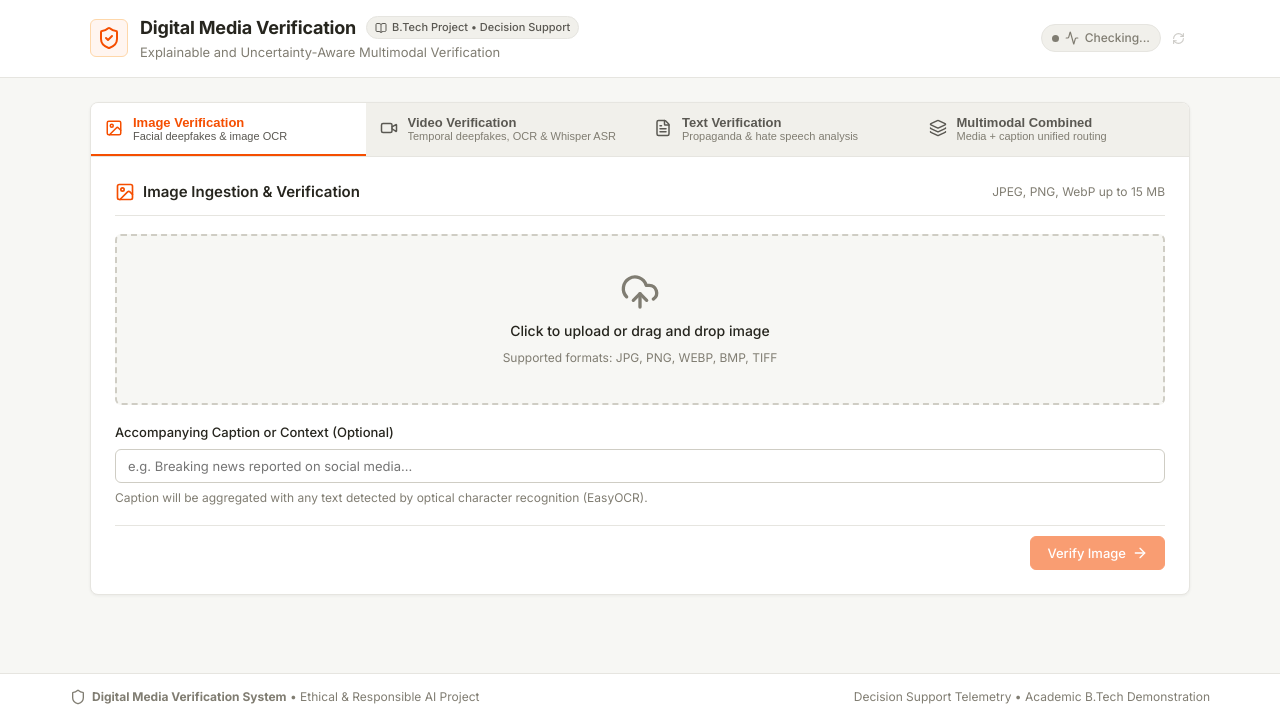
Test: Digital Media Verification Frontend Test Suite › 3. Text input UI updates character count and supports demo sample chips
Click the button "Text Verification Propaganda & hate speech analysis".
click(777, 129)  # box [640,102,914,156]
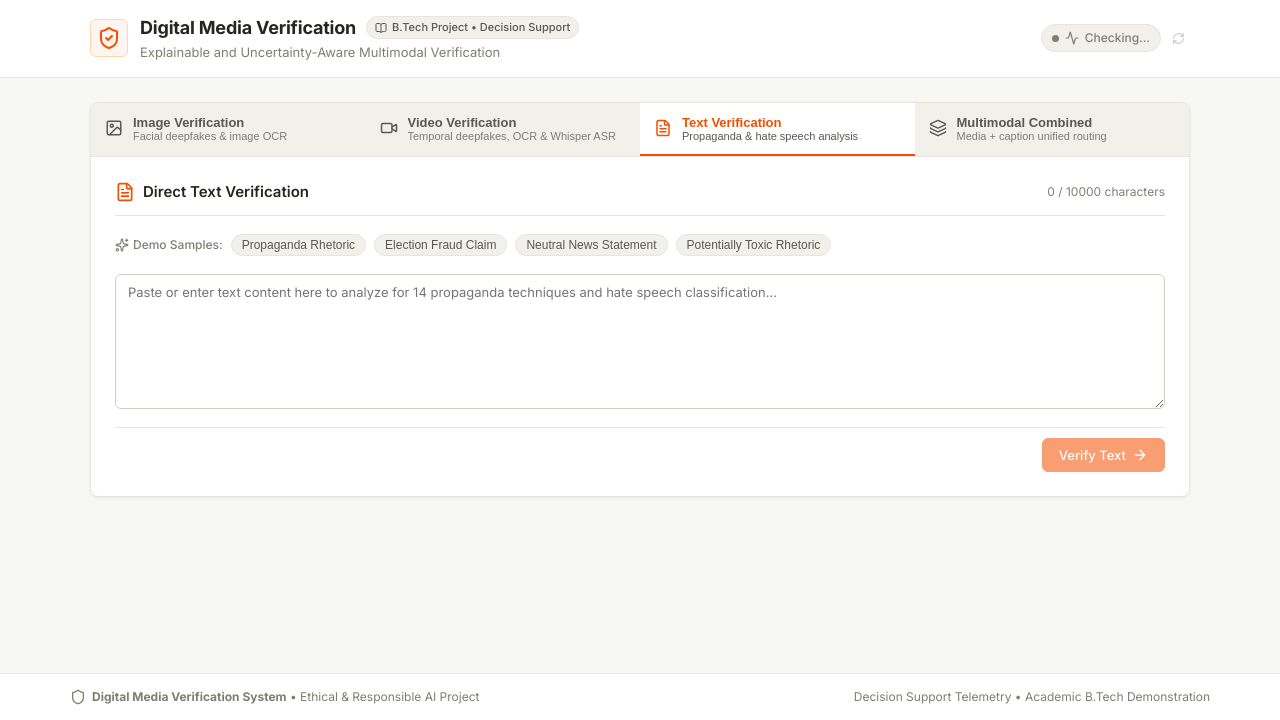
Expected: the text box with placeholder "Paste or enter text content here" is shown, [115,274,1165,409]
Click the button "Propaganda Rhetoric".
click(298, 245)  # box [231,234,366,256]
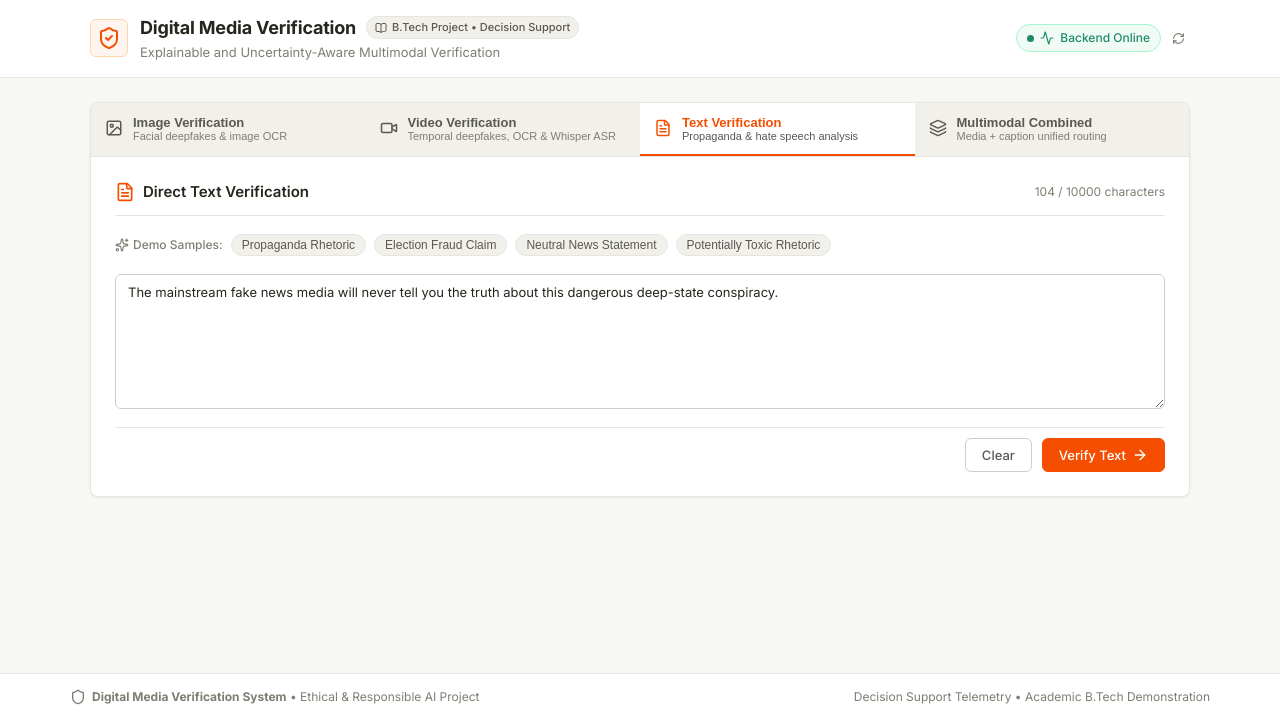
Expected: the text "104 / 10000 characters" is shown, [1035,183,1165,201]
Expected: the button "Verify Text" is enabled, [1042,438,1165,472]
